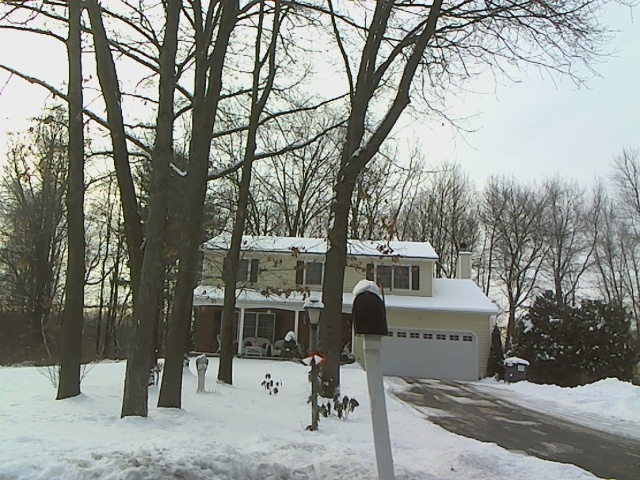Ploughed: (395, 372, 622, 467)
